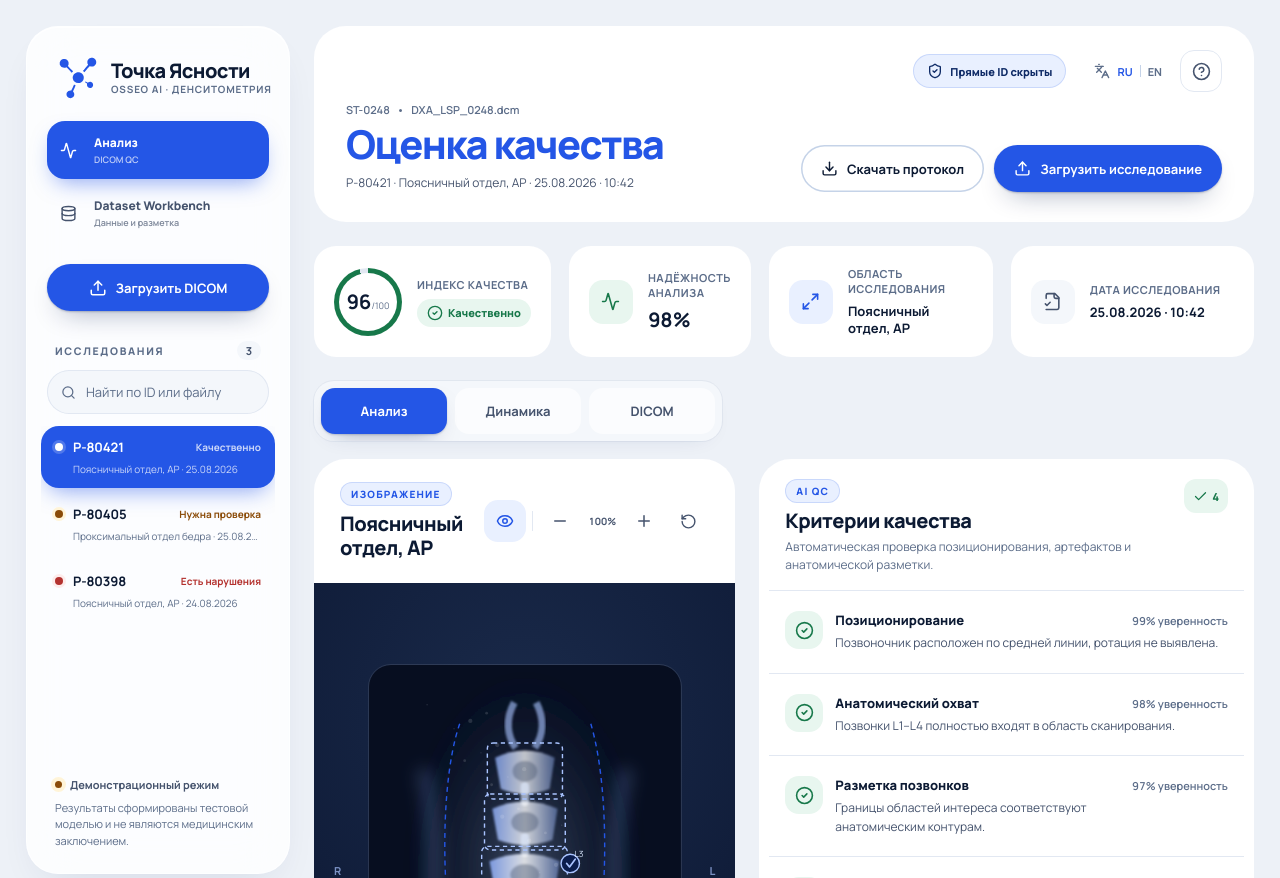
Test: Osseo AI workspace › blocks trend interpretation when positioning and ROI are not comparable
Click the button "P-80405".
click(158, 524)  # box [41, 493, 275, 555]
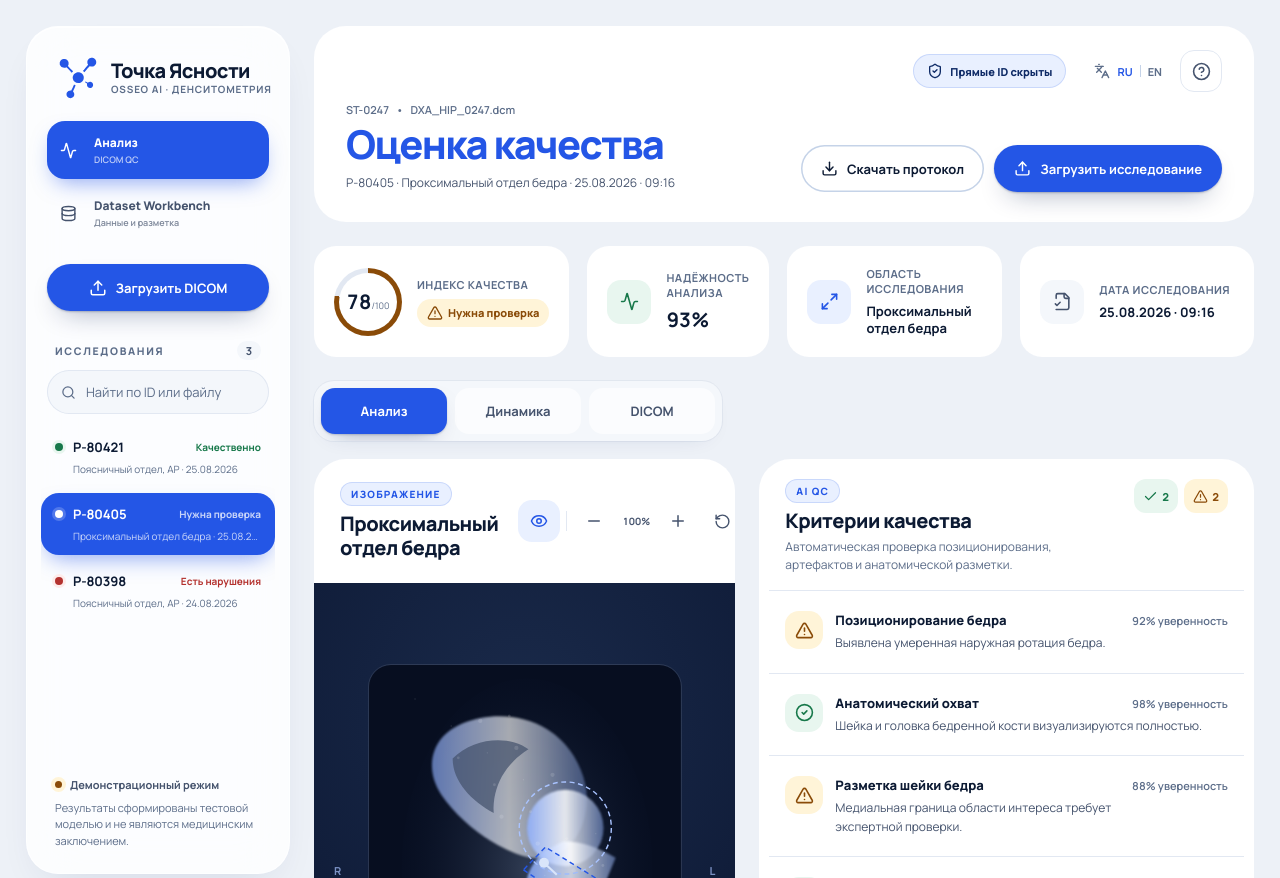
Click the tab "Динамика".
click(518, 411)  # box [455, 388, 581, 434]
(page scrolled)
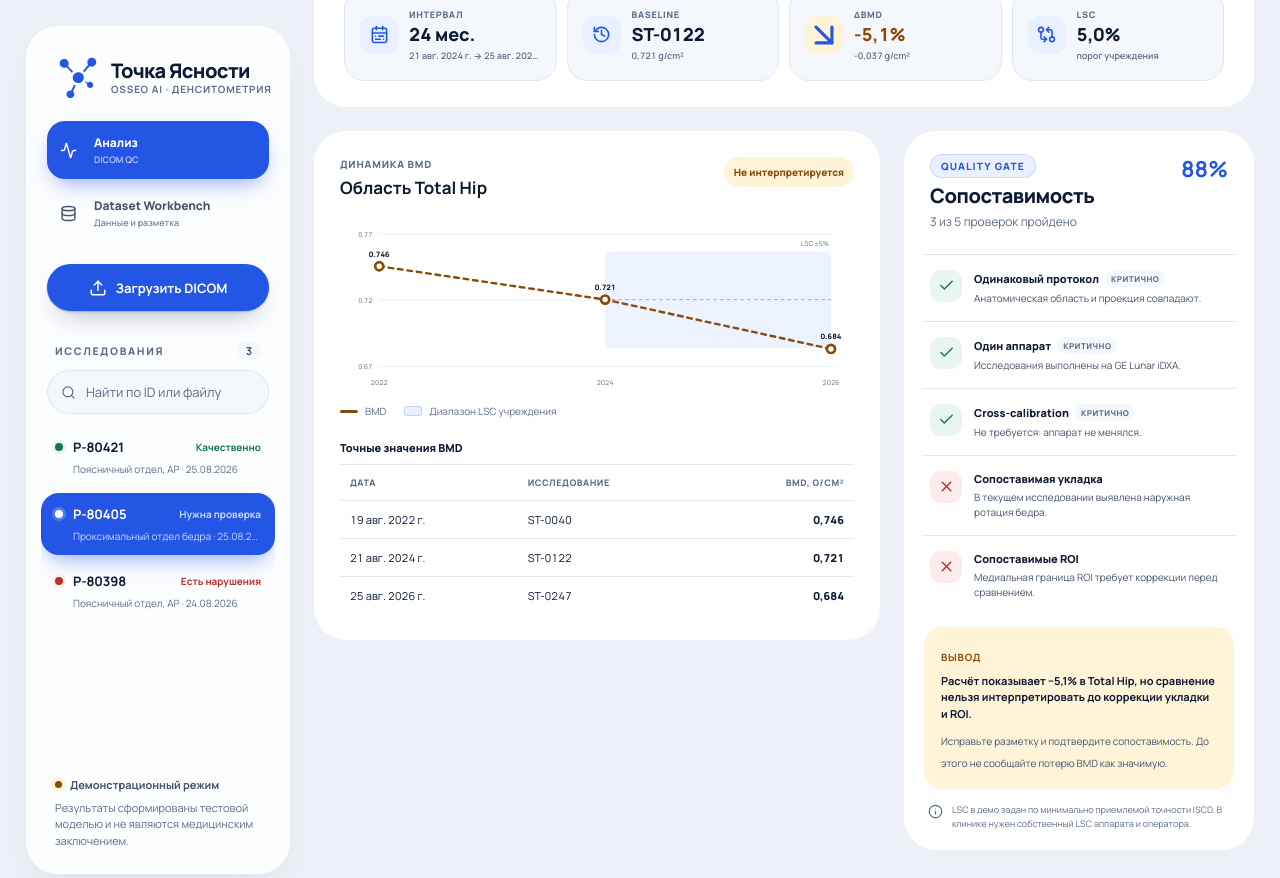
expect the text "Не интерпретируется" is shown: met, box [724, 157, 854, 187]
expect the text "не сообщайте потерю BMD как значимую" is shown: met, box [941, 734, 1209, 770]
